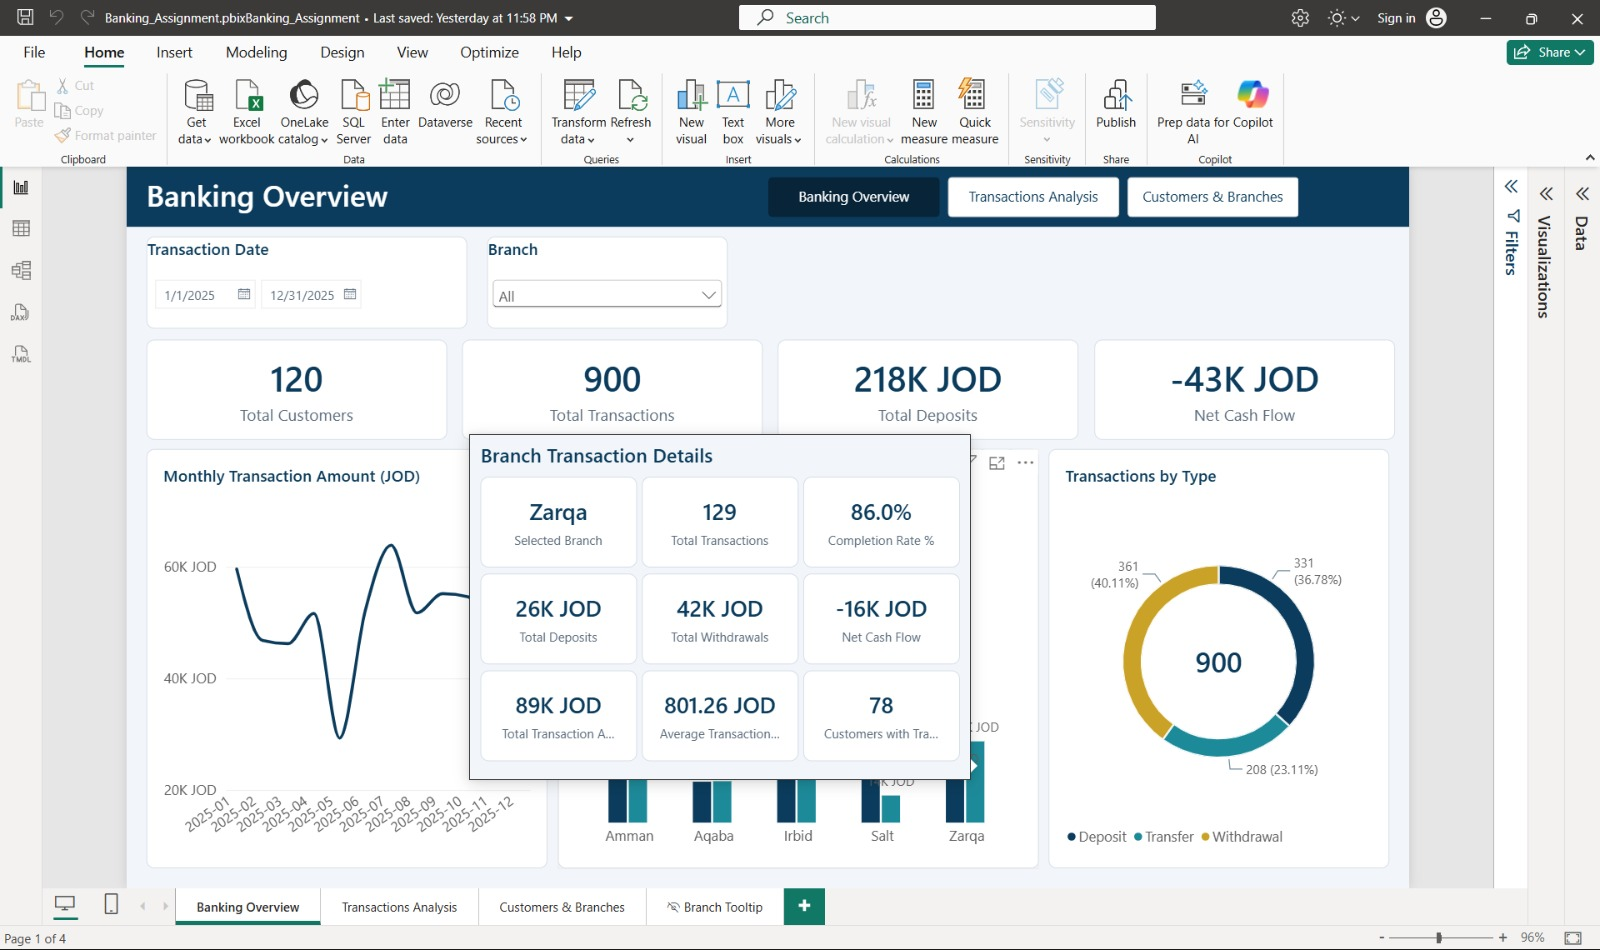

This screenshot's page, from the dashboard's own definition file:
{"tool":"powerbi","page":{"name":"Banking Overview","canvas":[1280,720],"ordinal":0},"visuals":[{"type":"textbox","box":[0,0,1280,60],"z":0},{"type":"textbox","box":[20,8,610,44],"z":1},{"type":"pageNavigator","box":[640,10,530,40],"z":2},{"type":"slicer","title":"Transaction Date","fields":{"Values":["Transactions.TransactionDate"]},"box":[20,70,320,92],"z":3},{"type":"slicer","title":"Branch","fields":{"Values":["Transactions.Branch"]},"box":[360,70,240,92],"z":4},{"type":"card","fields":{"Values":["Transactions.Total Customers"]},"box":[20,172,300,100],"z":5},{"type":"card","fields":{"Values":["Transactions.Total Transactions"]},"box":[335,172,300,100],"z":6},{"type":"card","fields":{"Values":["Transactions.Total Deposits"]},"box":[650,172,300,100],"z":7},{"type":"card","fields":{"Values":["Transactions.Net Cash Flow"]},"box":[965,172,300,100],"z":8},{"type":"lineChart","title":"Monthly Transaction Amount (JOD)","fields":{"Category":["Transactions.Transaction Month"],"Y":["Transactions.Total Transaction Amount"]},"box":[20,282,400,418],"z":9},{"type":"clusteredColumnChart","title":"Deposits vs Withdrawals by Branch (JOD)","fields":{"Category":["Transactions.Branch"],"Y":["Transactions.Total Deposits","Transactions.Total Withdrawals"]},"box":[430,282,480,418],"z":10},{"type":"donutChart","title":"Transactions by Type","fields":{"Category":["Transactions.TransactionType"],"Y":["Transactions.Total Transactions"]},"box":[920,282,340,418],"z":11}]}

Visuals, with their boxes on the page's 1280x720 design canvas (x1, y1, x2, y2). These are canvas units, not pixel positions in the 1600x950 screenshot, which may show the page scaled, cropped or inside an application window:
textbox: crop(0, 0, 1280, 60)
textbox: crop(20, 8, 630, 52)
pageNavigator: crop(640, 10, 1170, 50)
"Transaction Date" slicer: crop(20, 70, 340, 162)
"Branch" slicer: crop(360, 70, 600, 162)
card - Transactions.Total Customers: crop(20, 172, 320, 272)
card - Transactions.Total Transactions: crop(335, 172, 635, 272)
card - Transactions.Total Deposits: crop(650, 172, 950, 272)
card - Transactions.Net Cash Flow: crop(965, 172, 1265, 272)
"Monthly Transaction Amount (JOD)" lineChart: crop(20, 282, 420, 700)
"Deposits vs Withdrawals by Branch (JOD)" clusteredColumnChart: crop(430, 282, 910, 700)
"Transactions by Type" donutChart: crop(920, 282, 1260, 700)
